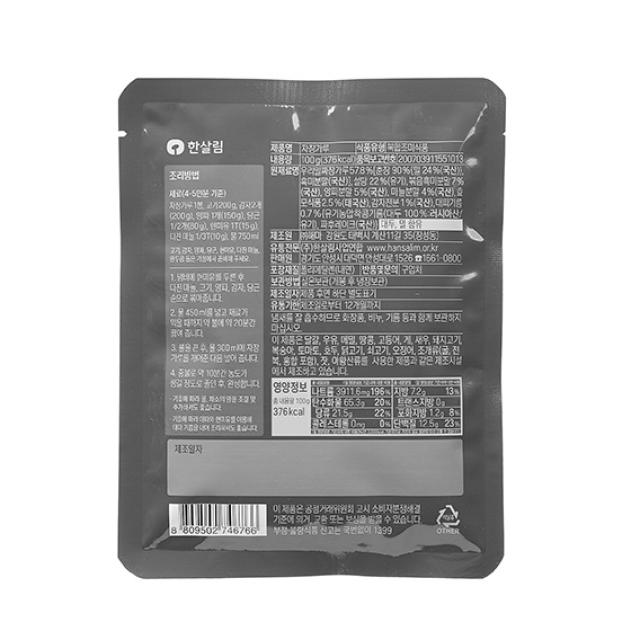Nutrition Label: (265, 378, 478, 448)
